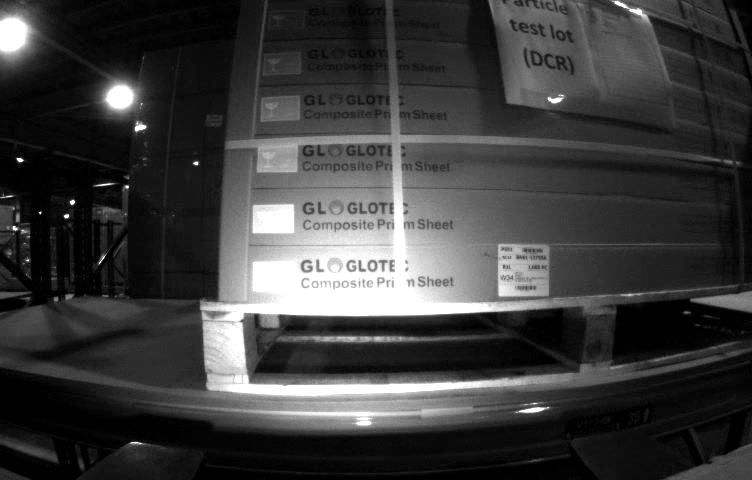True Barcode: (496, 244, 551, 297)
